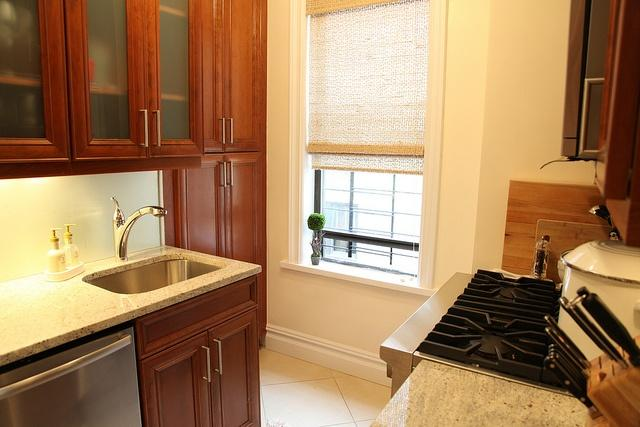Lemari: (160, 0, 268, 269)
